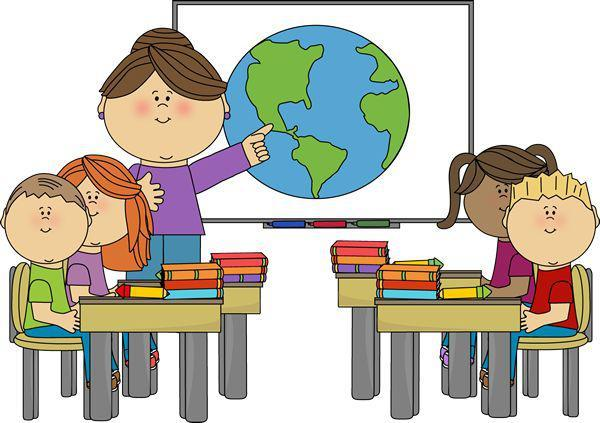chair: (5, 260, 78, 421), (529, 269, 595, 417)
person: (92, 22, 235, 296), (499, 176, 594, 345), (441, 143, 542, 293), (2, 169, 85, 343), (62, 153, 146, 295)
